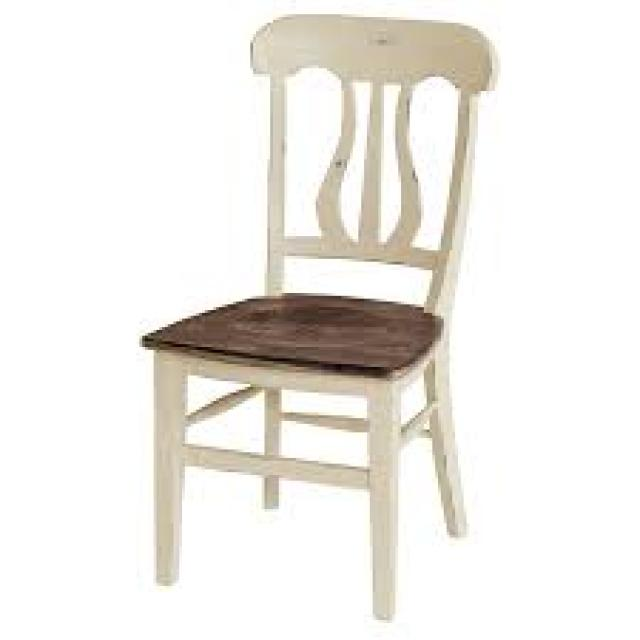bottle: (136, 13, 500, 619)
